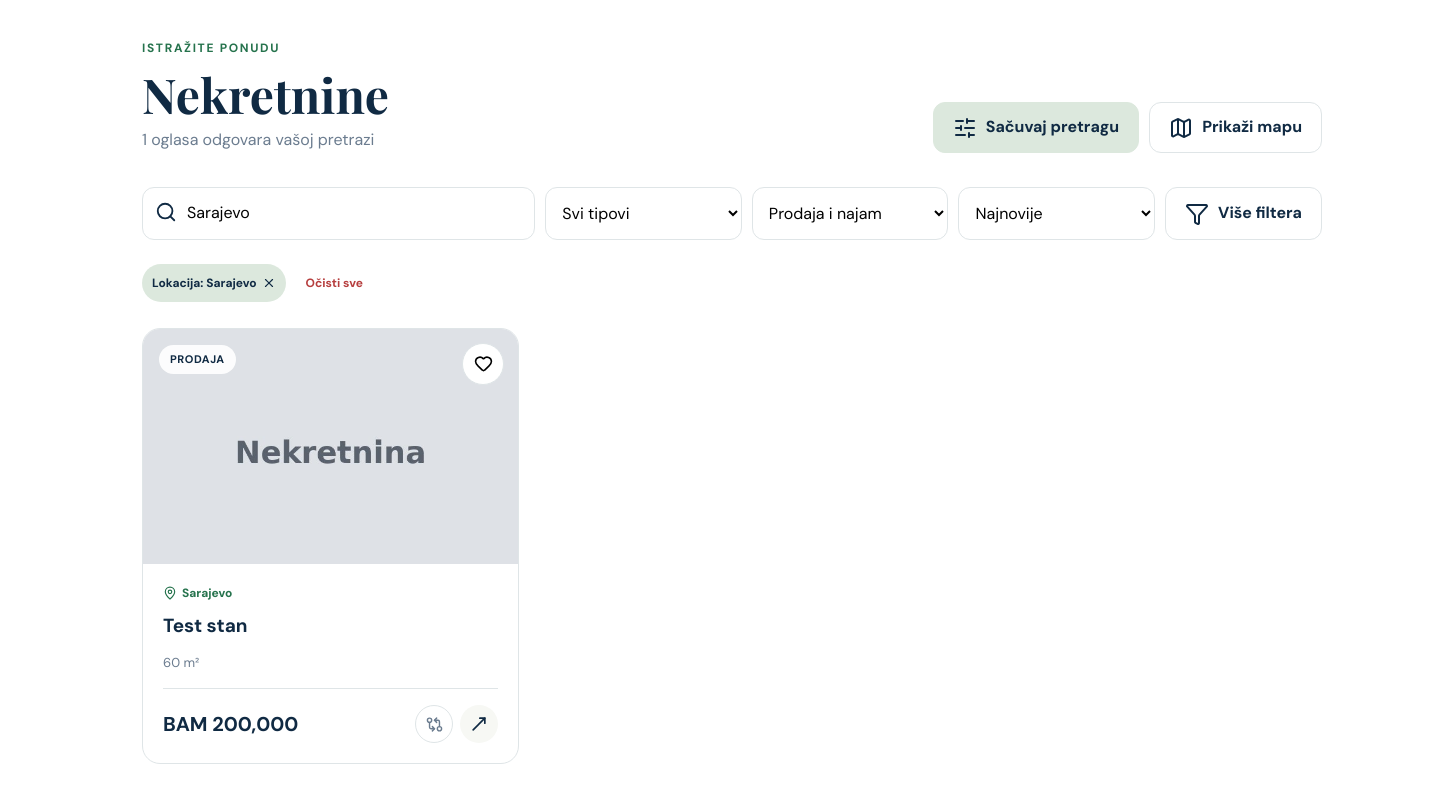
Scenario: filter mijenja URL koji je izvor stanja pretrage
This screenshot has width=1452, height=801.
Expected: the link "Test stan" is shown, [163,613,248,638]
Step 1. Select "Stan" in the dropdown named "Tip nekretnine" → (644, 214), box [545,187,742,240]
(page scrolled)
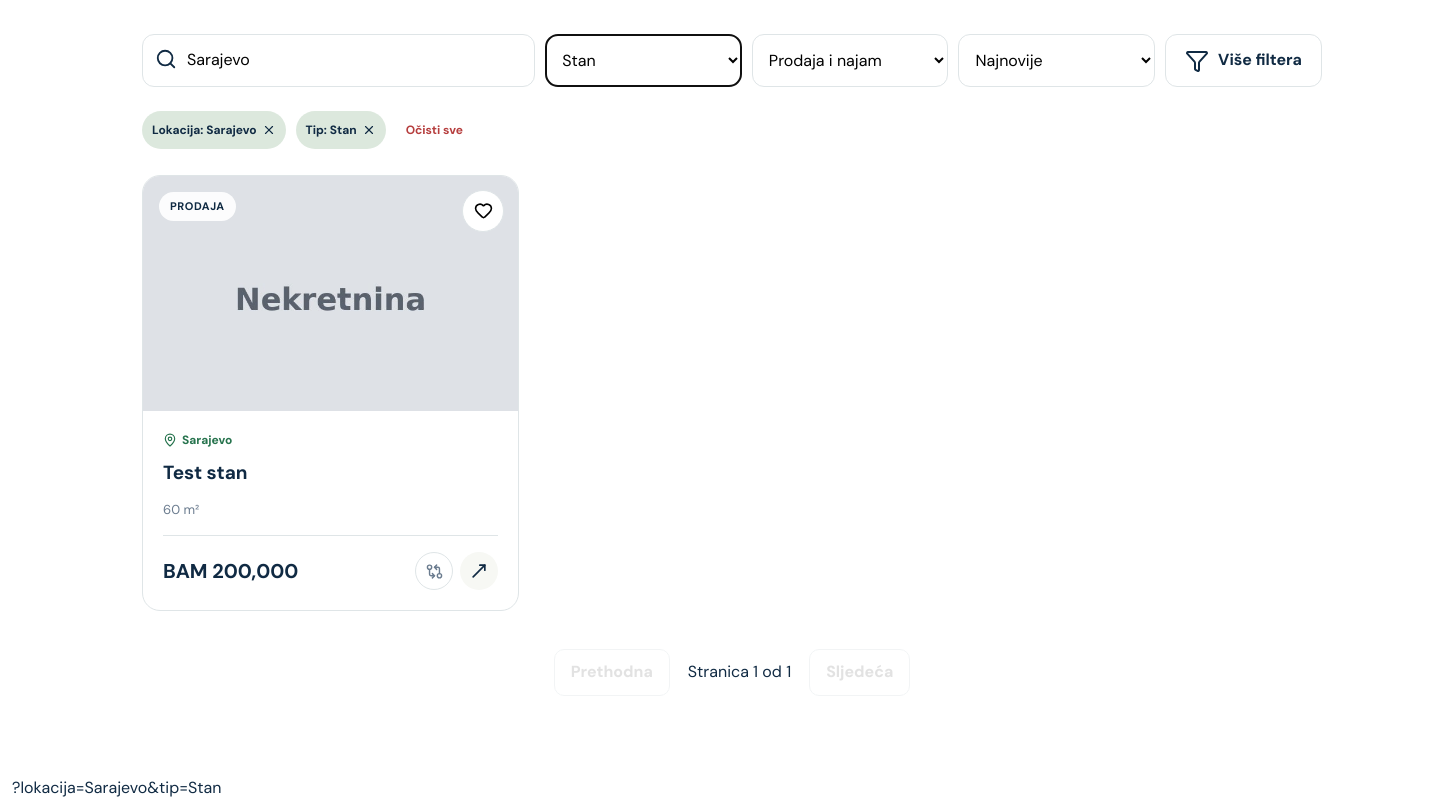
Expected: the text with test id "location" shows "tip=Stan", [12,777,221,798]
